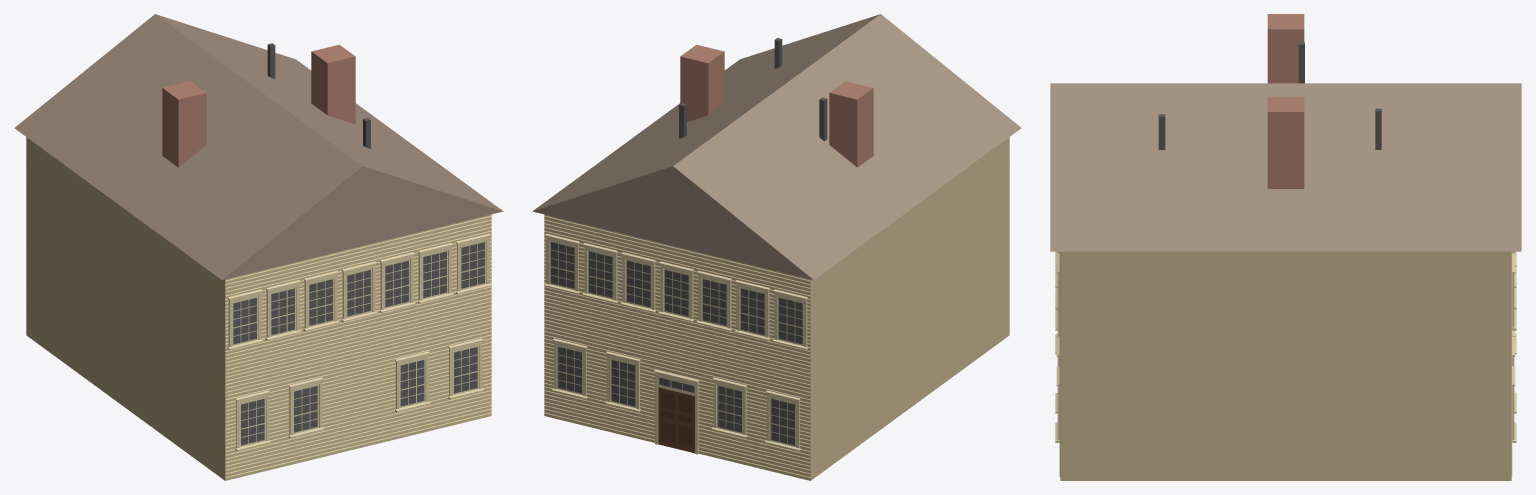
File: recon_1835_north_h2_045__inferred_1835.glb
3 views of the same model, side by side, from view 1: azimuth 30°, elevation 25°; view 2: azimuth 150°, elevation 25°; view 3: azimuth 270°, elevation 25° (orthographic). The views are drawn at different scales.
Parts seen in each view (by area): view 1: recon_1835_north_h2_045__inferred_1835; view 2: recon_1835_north_h2_045__inferred_1835; view 3: recon_1835_north_h2_045__inferred_1835.
Part boxes in pixels (box(x1,y1,x2,y2)): recon_1835_north_h2_045__inferred_1835: box(14, 14, 503, 480); recon_1835_north_h2_045__inferred_1835: box(532, 14, 1021, 480); recon_1835_north_h2_045__inferred_1835: box(1050, 14, 1521, 480).
Bounding box in the file's own units: 9.06 × 9.33 × 11.57.
